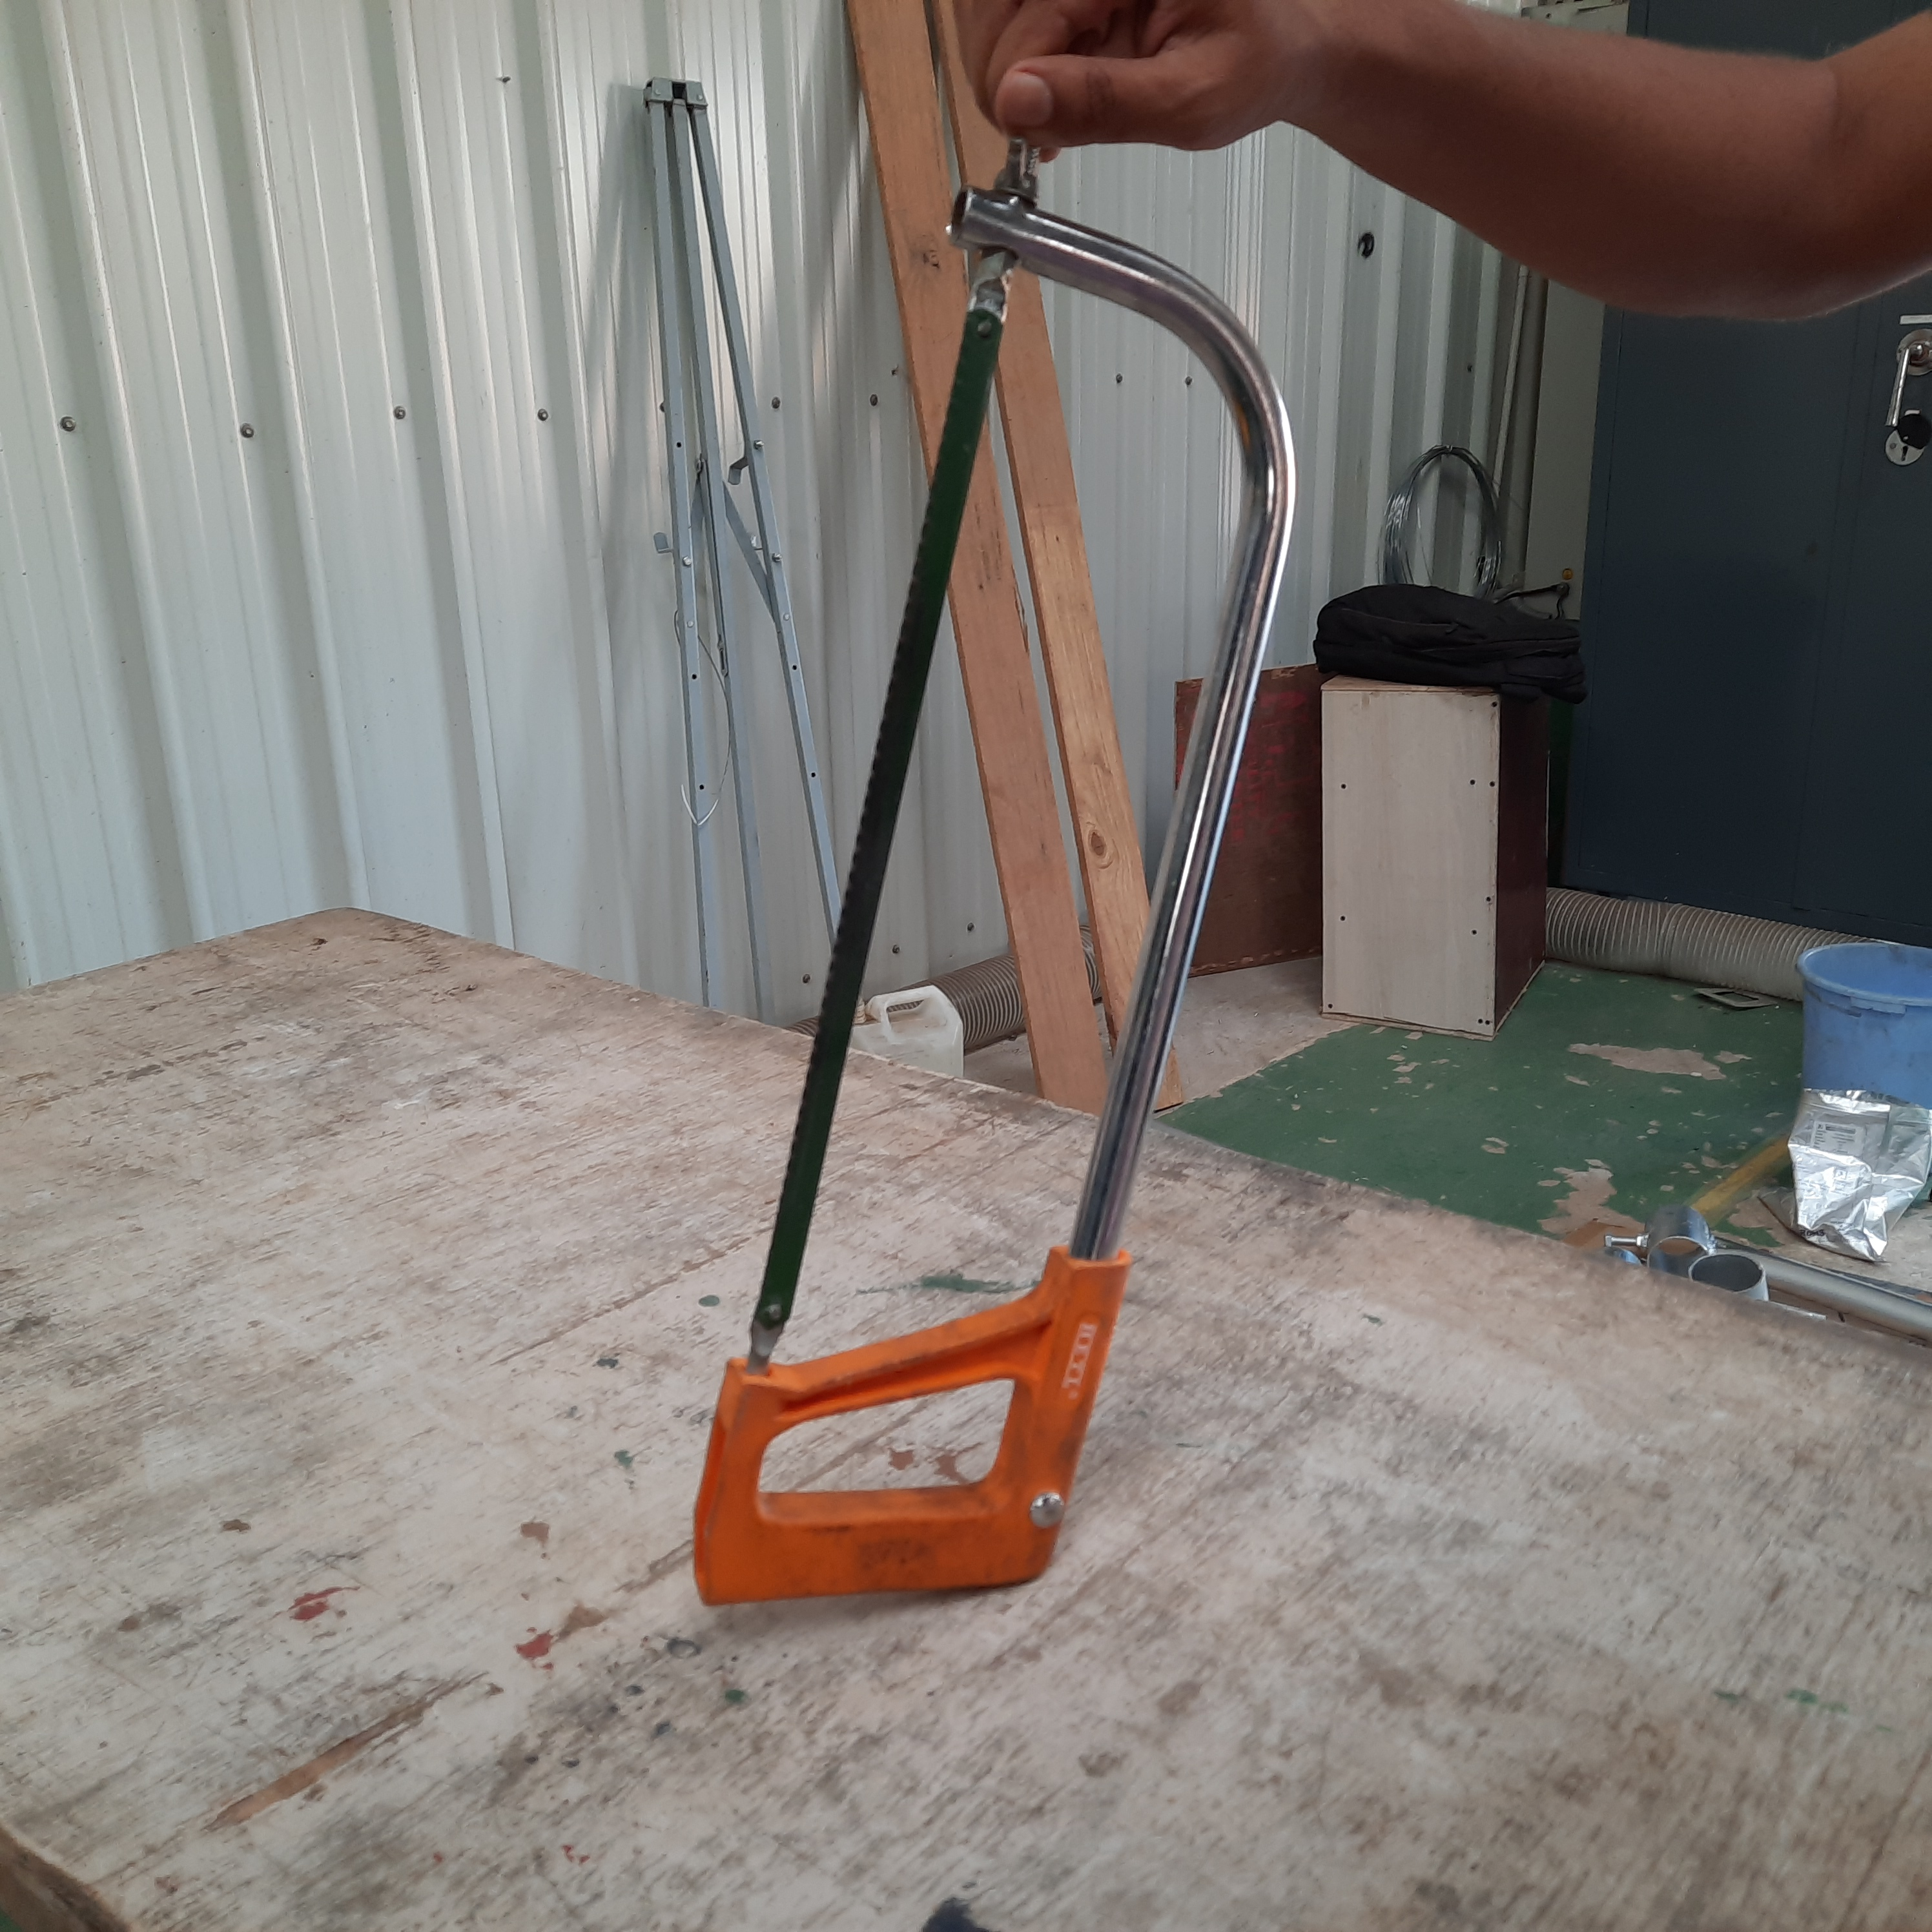Hexaframe: (701, 159, 1279, 1727)
